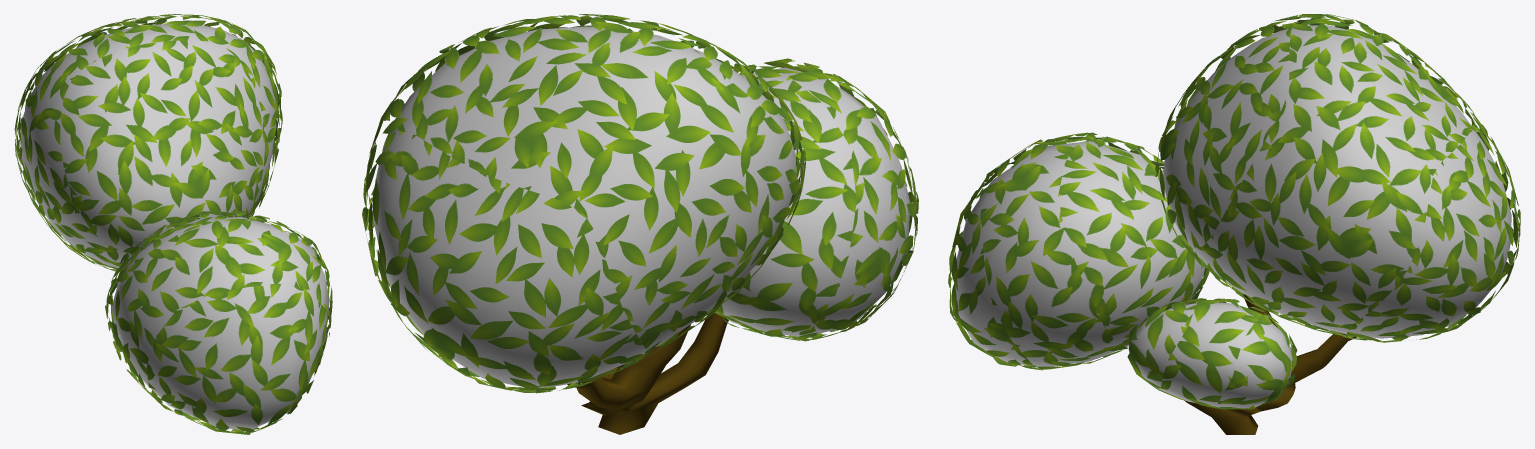
File: mesh_Bush_2.fbx
3 views of the same model, side by side, from view 1: azimuth 30°, elevation 25°; view 2: azimuth 150°, elevation 25°; view 3: azimuth 270°, elevation 25° (orthographic). The views are drawn at different scales.
Parts seen in each view (by area): view 1: mesh_Bush_2; view 2: mesh_Bush_2; view 3: mesh_Bush_2.
Boxes of the visible parts, x1,y1,x2,y2 form: mesh_Bush_2: [14, 14, 332, 434]; mesh_Bush_2: [362, 14, 918, 434]; mesh_Bush_2: [948, 14, 1520, 434].
Size of the model in its own units: 2.45 by 2.96 by 3.98.
